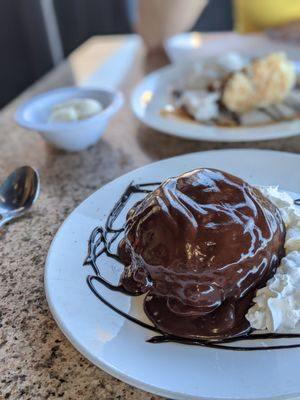salad: (0, 165, 40, 237)
sushi: (14, 85, 126, 153)
